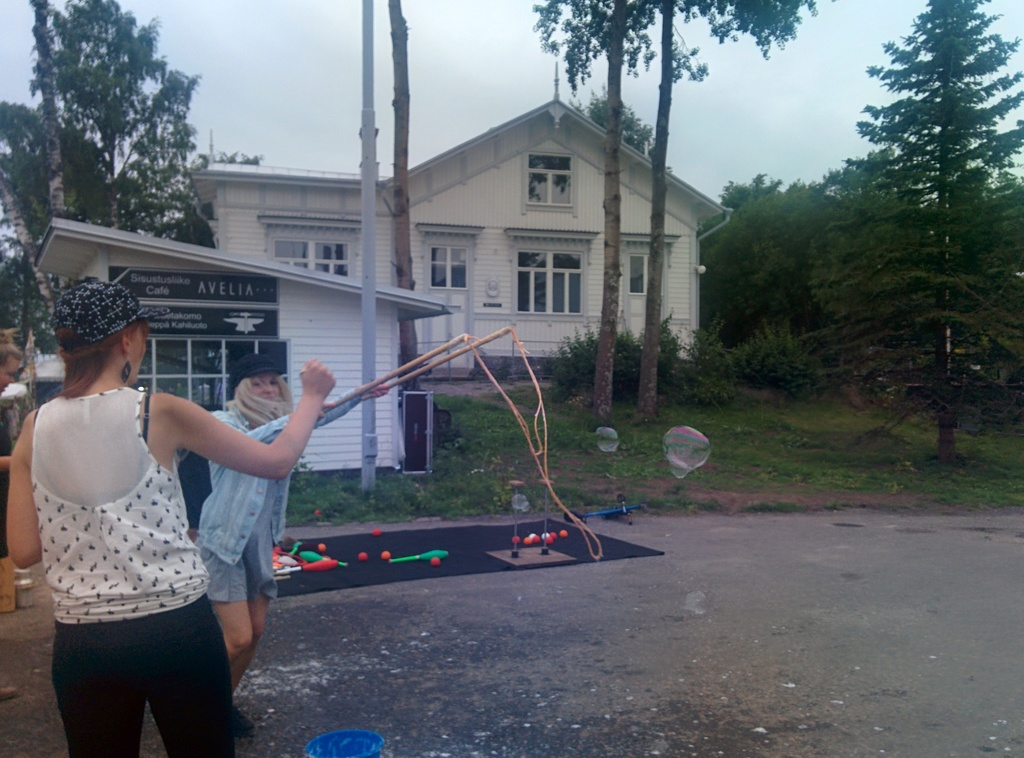Tree: (531, 0, 818, 412), (812, 14, 1010, 474), (0, 0, 257, 352), (387, 0, 431, 474)
